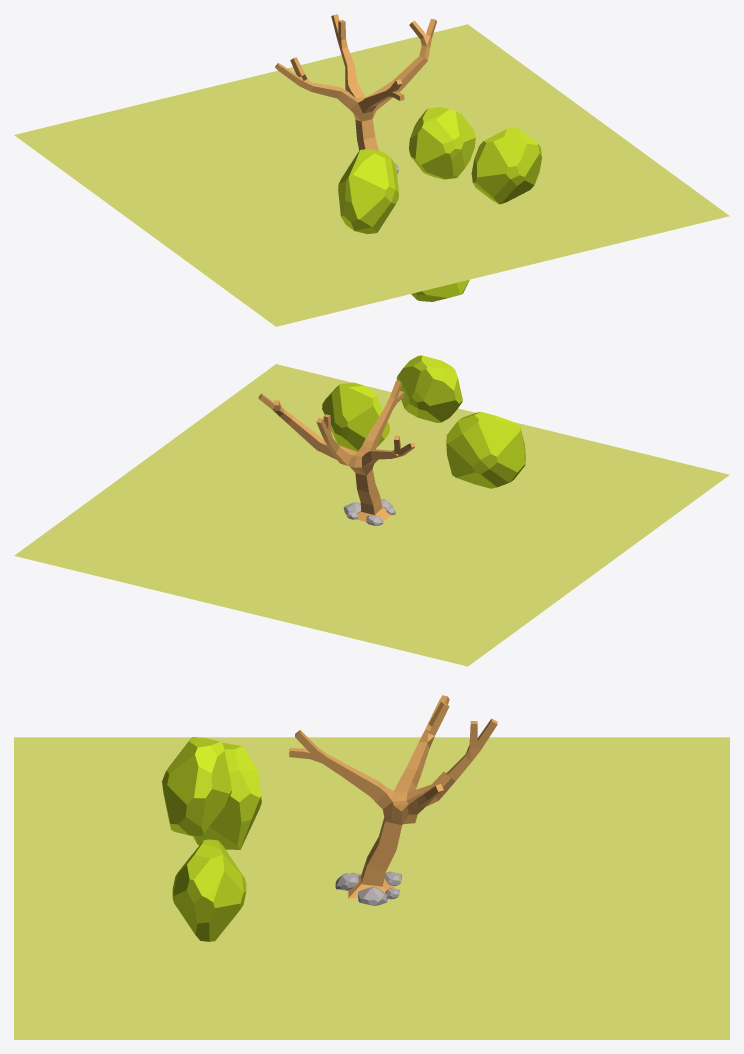
The model's file is Arbolanimado.fbx.
The picture shows the model from 3 angles, top to bottom: view 1: azimuth 30°, elevation 25°; view 2: azimuth 150°, elevation 25°; view 3: azimuth 270°, elevation 25°; orthographic projection. The views are drawn at different scales.
Visible parts, largest first — view 1: Plane, Vert, Icosphere.003, Icosphere.005, Icosphere.007, Icosphere.001; view 2: Plane, Icosphere.003, Vert, Icosphere.007, Icosphere.005; view 3: Plane, Vert, Icosphere.005, Icosphere.007, Icosphere.003.
Boxes of the visible parts, x1,y1,x2,y2 form: Plane: (14, 24, 729, 326); Vert: (275, 14, 436, 150); Icosphere.003: (338, 149, 398, 233); Icosphere.005: (471, 126, 541, 204); Icosphere.007: (409, 107, 475, 179); Icosphere.001: (411, 279, 469, 301); Plane: (14, 364, 729, 666); Icosphere.003: (446, 411, 525, 488); Vert: (258, 380, 415, 521); Icosphere.007: (396, 355, 462, 422); Icosphere.005: (322, 382, 389, 451); Plane: (14, 737, 729, 1039); Vert: (289, 695, 497, 898); Icosphere.005: (172, 839, 246, 941); Icosphere.007: (162, 737, 231, 836); Icosphere.003: (192, 743, 261, 849).
Size of the model in its own units: 1553 by 662 by 1553.
